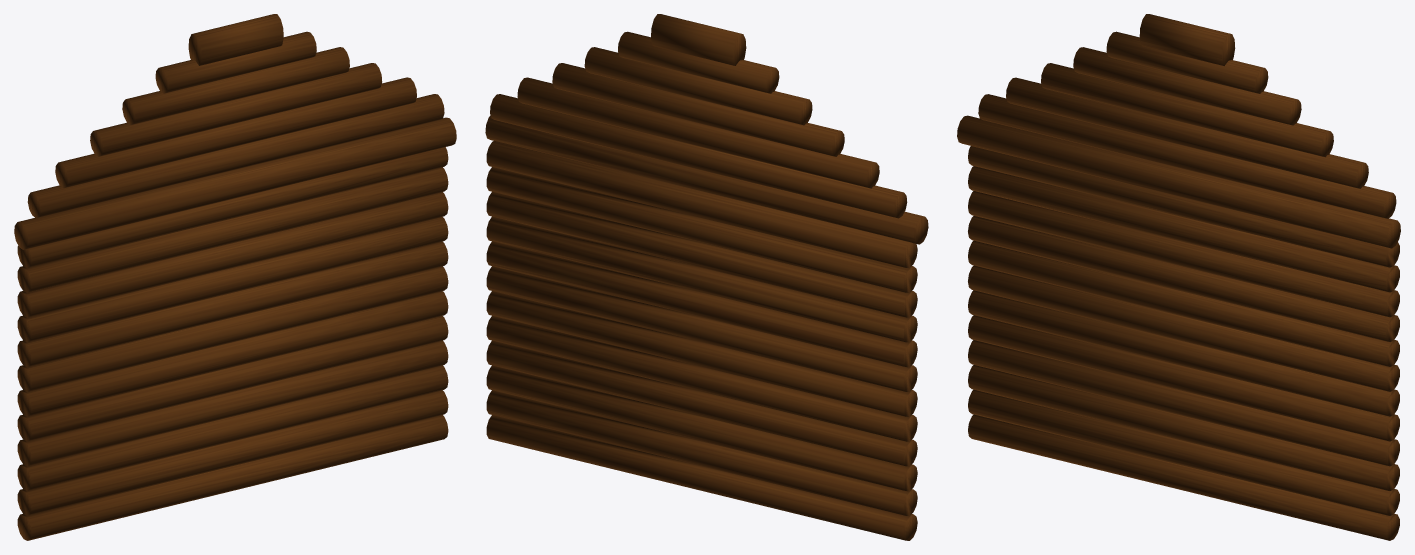
The model's file is BackWall.fbx.
3 views of the same model, side by side, from view 1: azimuth 30°, elevation 25°; view 2: azimuth 150°, elevation 25°; view 3: azimuth 330°, elevation 25° (orthographic).
Parts seen in each view (by area): view 1: BackWall; view 2: BackWall; view 3: BackWall.
Part boxes in pixels (box(x1,y1,x2,y2)): BackWall: box(14, 14, 456, 540); BackWall: box(485, 14, 928, 540); BackWall: box(957, 14, 1400, 540).
Size of the model in its own units: 620 by 641 by 43.96.
